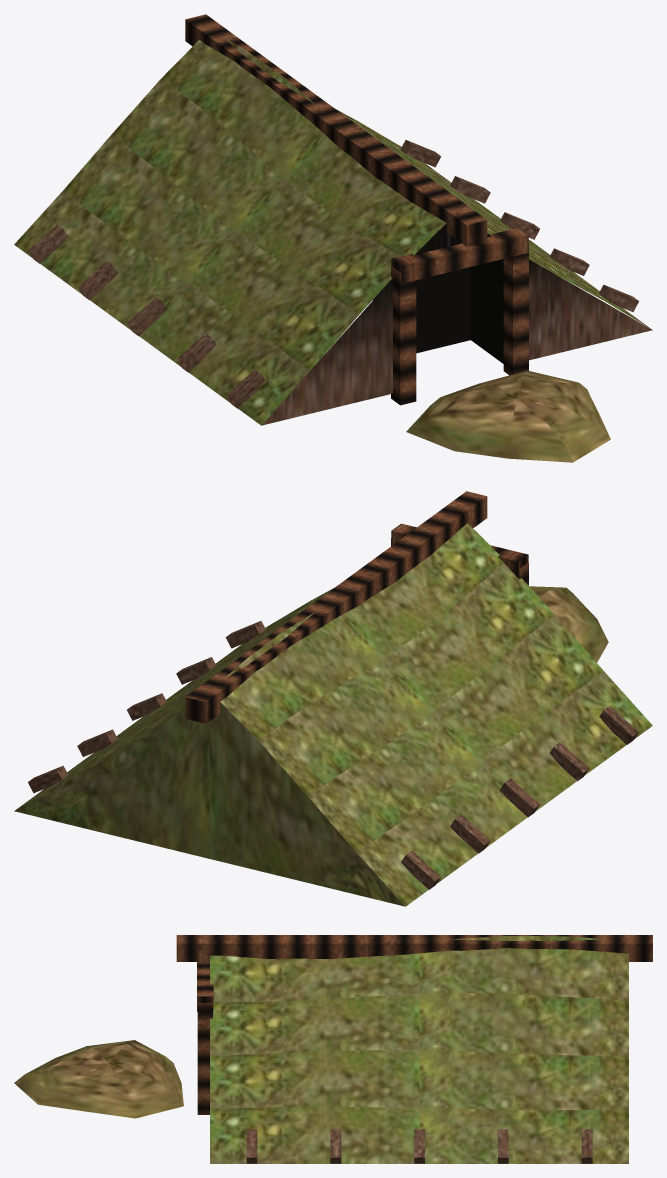
Rendered from milir-zemnice.glb.
3 renders of one model, top to bottom at view 1: azimuth 30°, elevation 25°; view 2: azimuth 150°, elevation 25°; view 3: azimuth 270°, elevation 25°, orthographic. The views are drawn at different scales.
Visible parts, largest first — view 1: milir-zemnice; view 2: milir-zemnice; view 3: milir-zemnice.
Boxes of the visible parts, bbox=[...] form: milir-zemnice: bbox=[14, 14, 652, 462]; milir-zemnice: bbox=[14, 491, 652, 906]; milir-zemnice: bbox=[14, 935, 652, 1163].
Bounding box in the file's own units: 3.33 × 1.41 × 5.34.
1 material, 1 textured.
